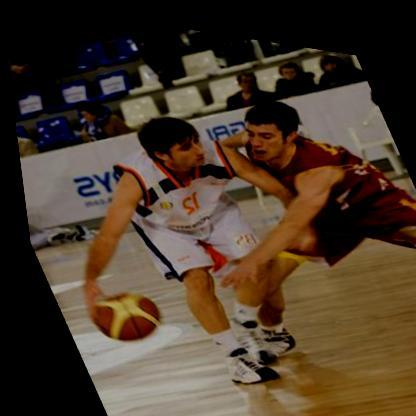basketball: (72, 272, 166, 354)
